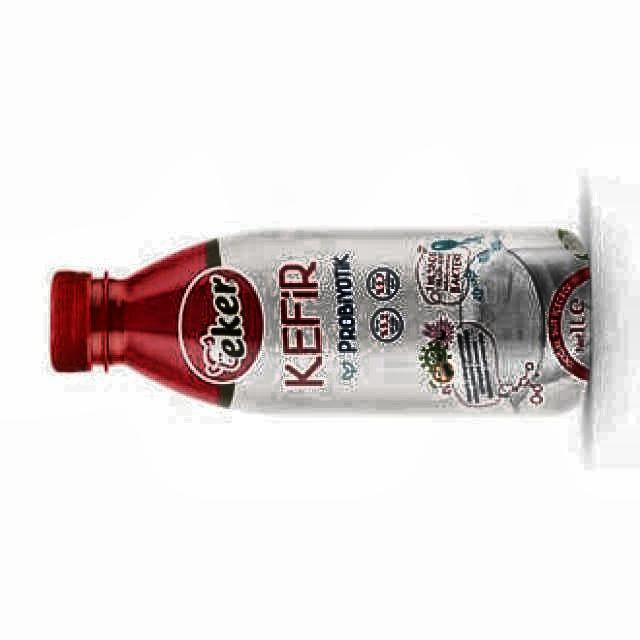plastic: (50, 230, 590, 412)
